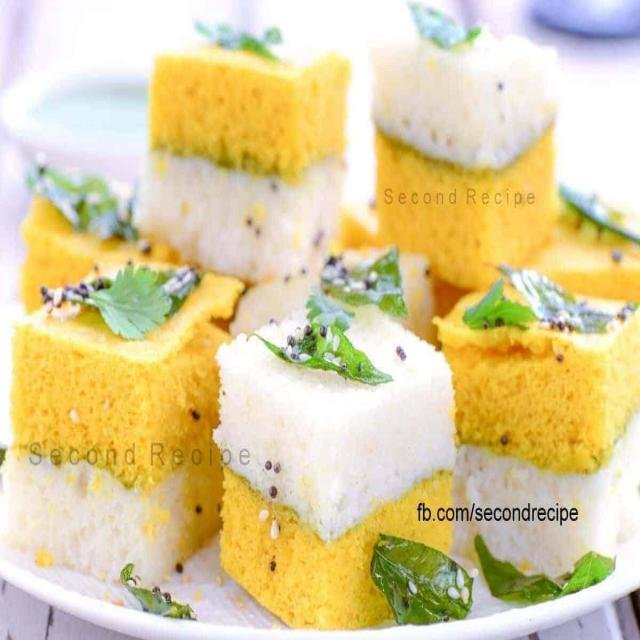dhokla: (17, 10, 640, 629)
